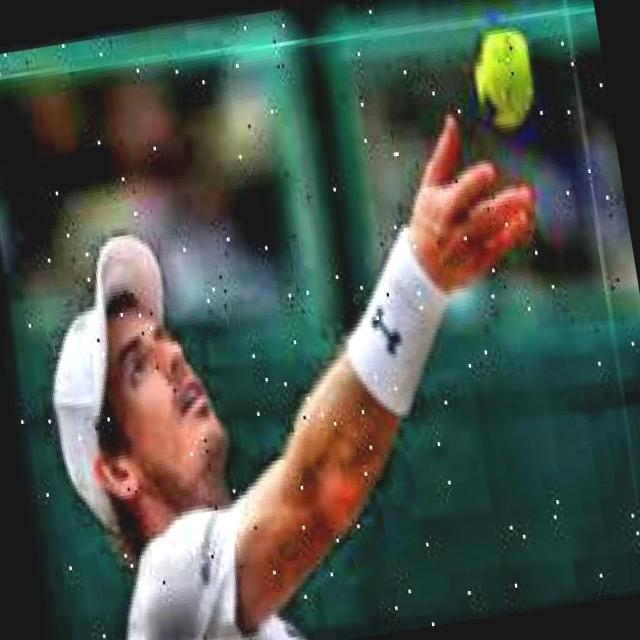Tennis Ball: (468, 27, 539, 128)
